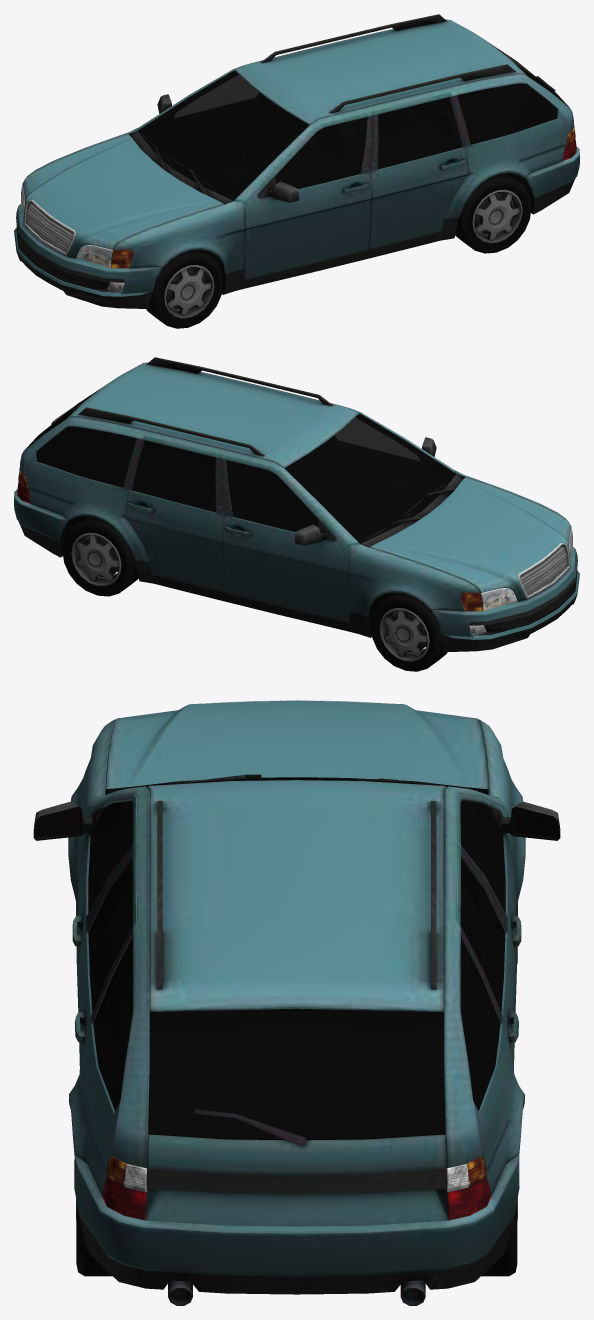
Rendered from traffic_wagon.glb.
3 views of the same model, one above another, from view 1: azimuth 30°, elevation 25°; view 2: azimuth 150°, elevation 25°; view 3: azimuth 270°, elevation 25° (orthographic). The views are drawn at different scales.
Parts seen in each view (by area): view 1: Wagon Body_Body_0, Wagon Body_Glass_0, Wheel_A001_Wheel_0, Wheel_A_Wheel_0, Wagon Body_Optics_0; view 2: Wagon Body_Body_0, Wagon Body_Glass_0, Wheel_A003_Wheel_0, Wheel_A002_Wheel_0, Wagon Body_Optics_0; view 3: Wagon Body_Body_0, Wagon Body_Glass_0, Wagon Body_Optics_0, Wheel_A003_Wheel_0, Wheel_A001_Wheel_0.
Boxes of the visible parts, x1,y1,x2,y2 form: Wagon Body_Body_0: (14, 14, 579, 308); Wagon Body_Glass_0: (137, 37, 568, 200); Wheel_A001_Wheel_0: (455, 173, 531, 253); Wheel_A_Wheel_0: (146, 249, 223, 328); Wagon Body_Optics_0: (21, 124, 576, 292); Wagon Body_Body_0: (14, 357, 579, 651); Wagon Body_Glass_0: (25, 381, 456, 543); Wheel_A003_Wheel_0: (62, 516, 138, 596); Wheel_A002_Wheel_0: (370, 592, 447, 671); Wagon Body_Optics_0: (17, 467, 572, 635); Wagon Body_Body_0: (33, 700, 560, 1305); Wagon Body_Glass_0: (88, 777, 505, 1140); Wagon Body_Optics_0: (102, 1156, 490, 1220); Wheel_A003_Wheel_0: (481, 1197, 517, 1276); Wheel_A001_Wheel_0: (76, 1198, 112, 1276).
Bounding box in the file's own units: 4.38 × 1.38 × 1.95.
Materials: 4 (3 with a texture image).
